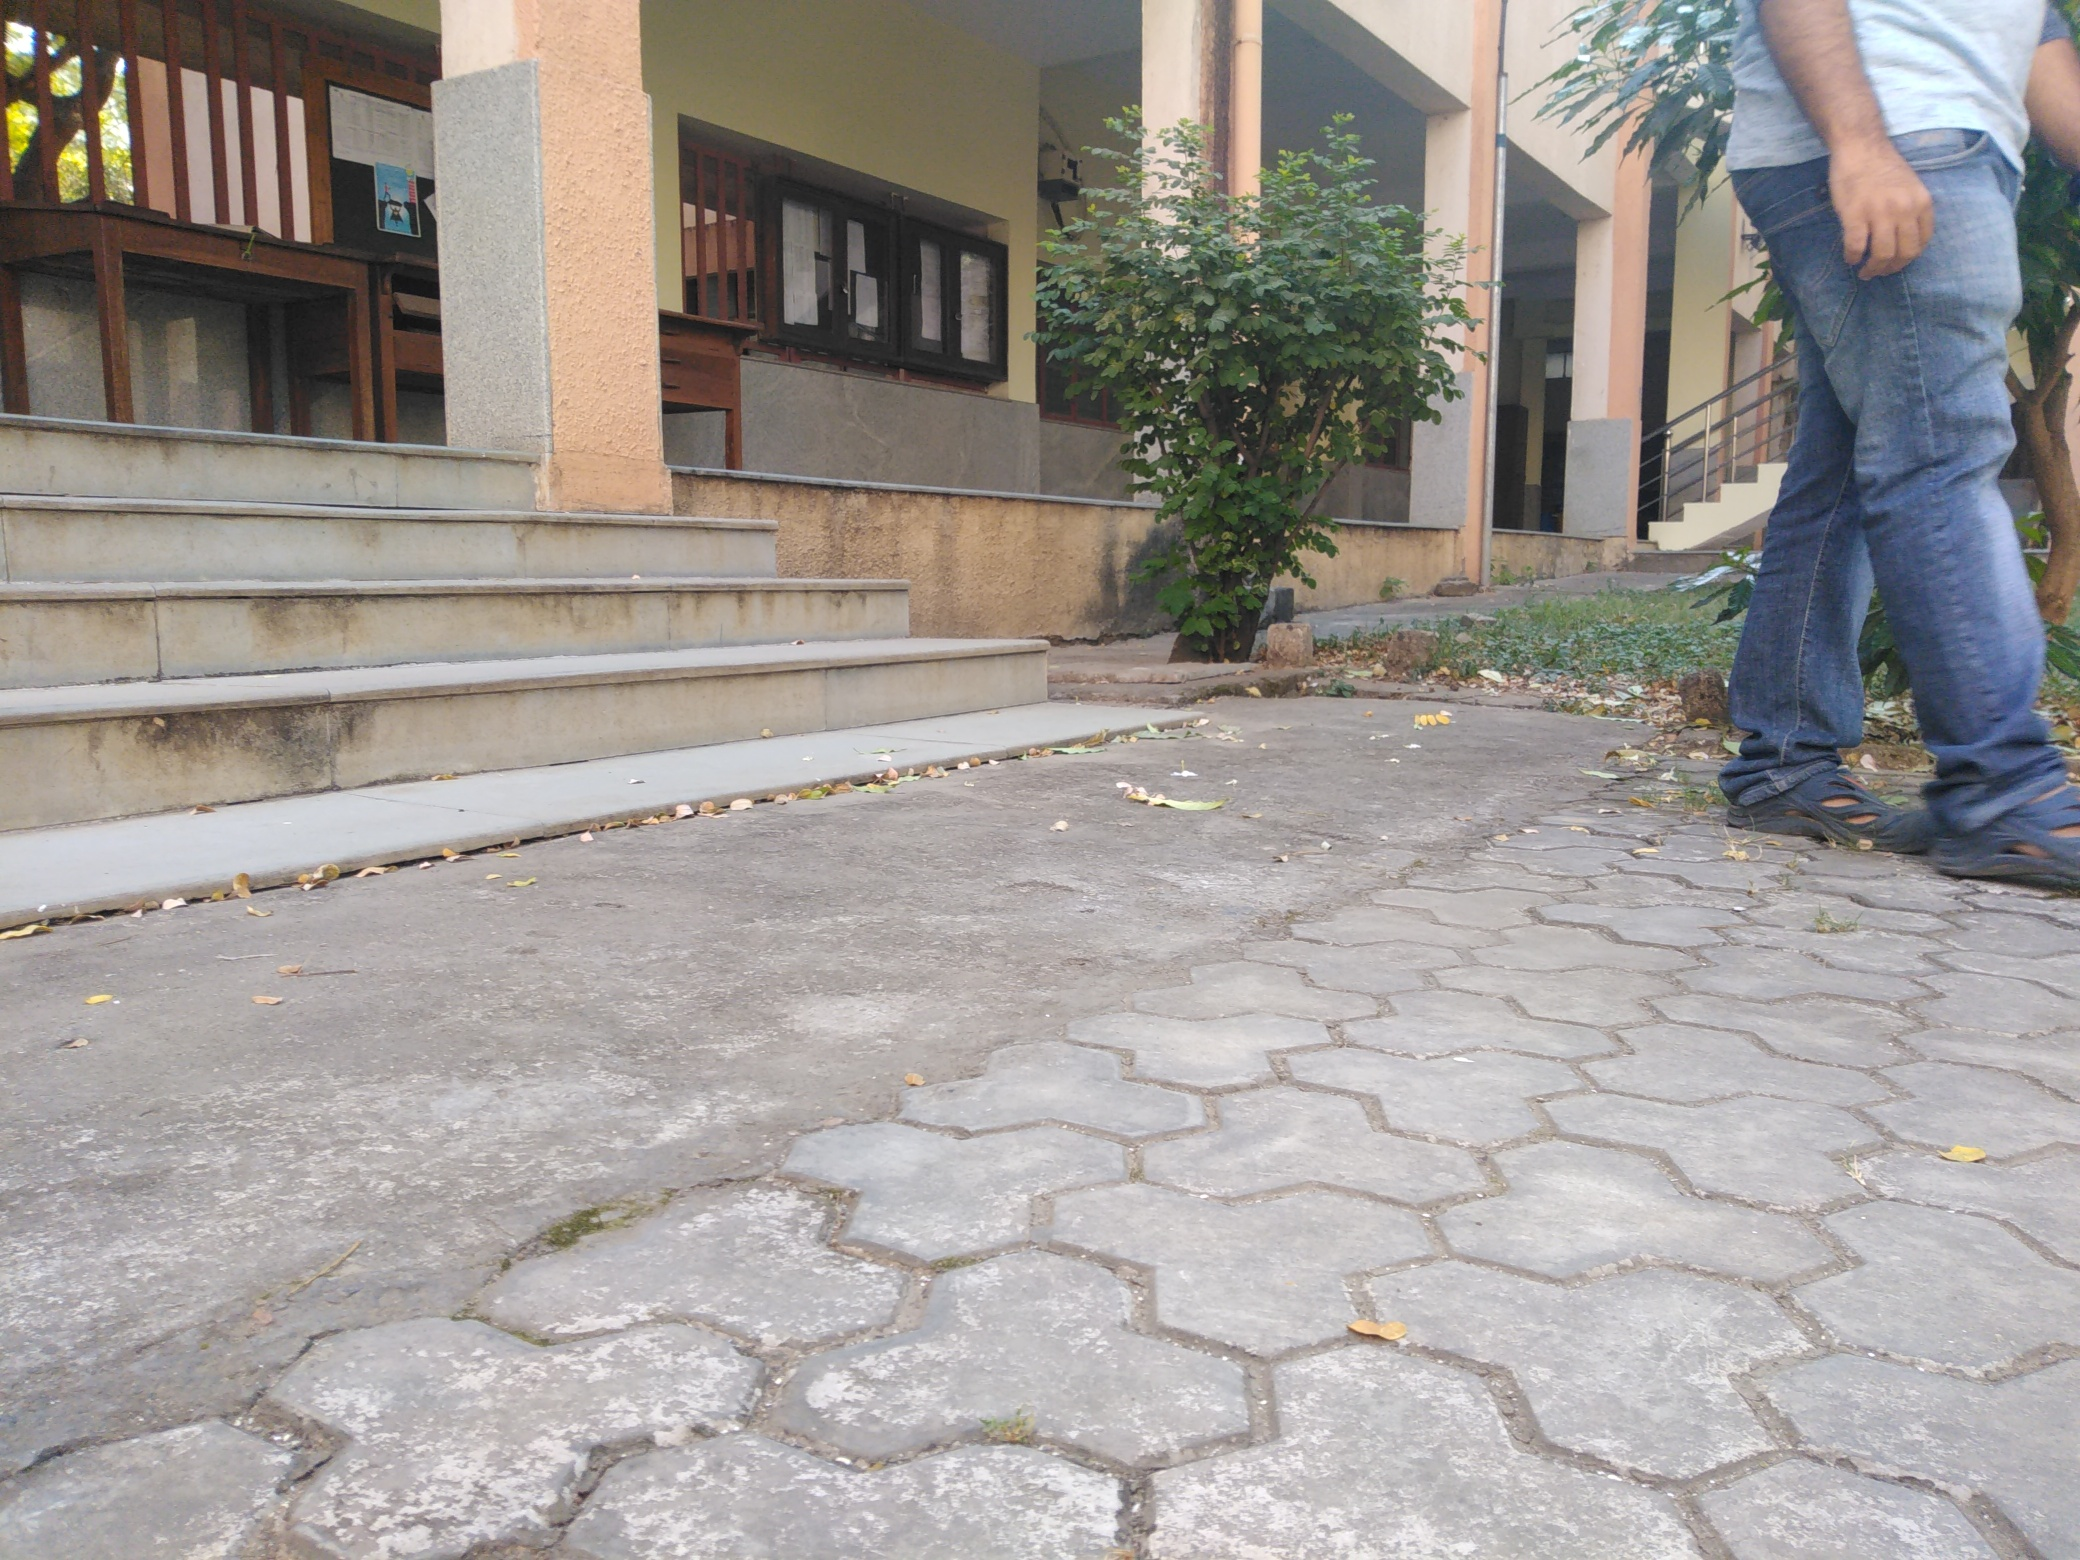stairs_up: (10, 397, 1078, 832)
